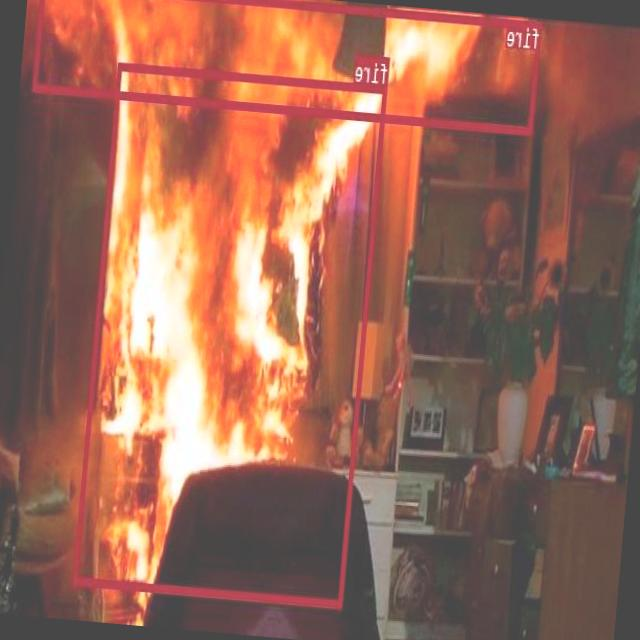fire: (73, 61, 388, 606), (33, 0, 542, 133)
